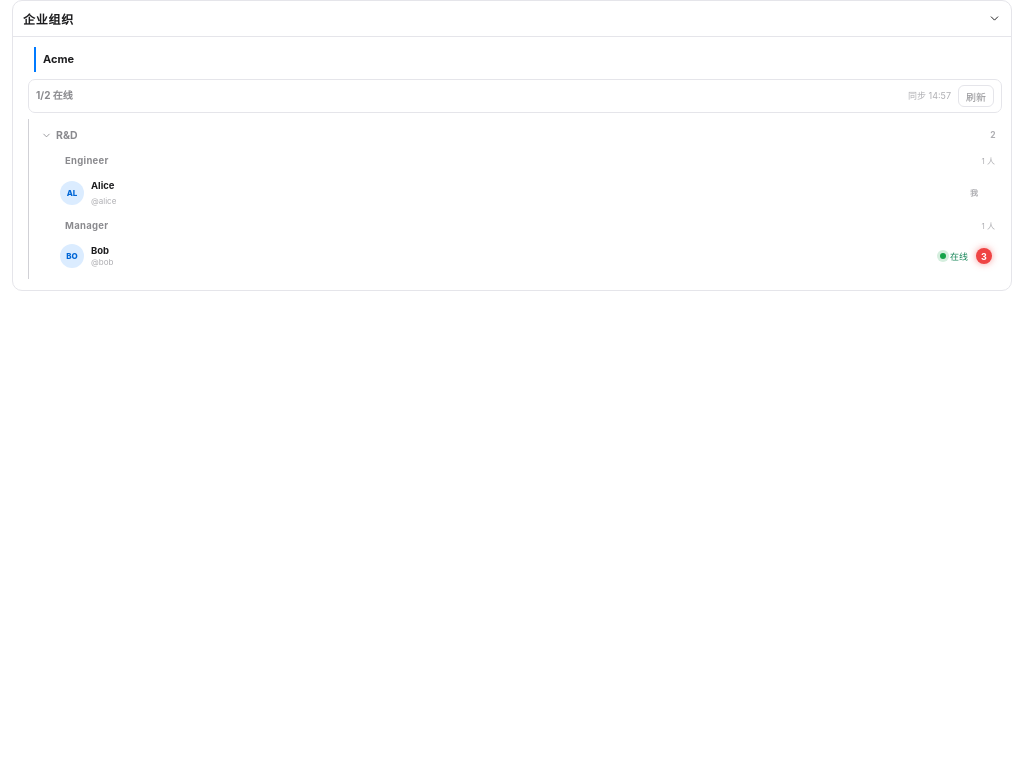
it: OrganizationTree › shows unread direct-message counts on enterprise members and clears them when opening chat
Expected: the text named "3 条未读消息" is shown, [976, 248, 992, 264]
Expected: the text "在线" is shown, [940, 250, 968, 263]
Click the button "BO Bob @bob 在线 3" at (72, 256), box [58, 240, 1002, 272]
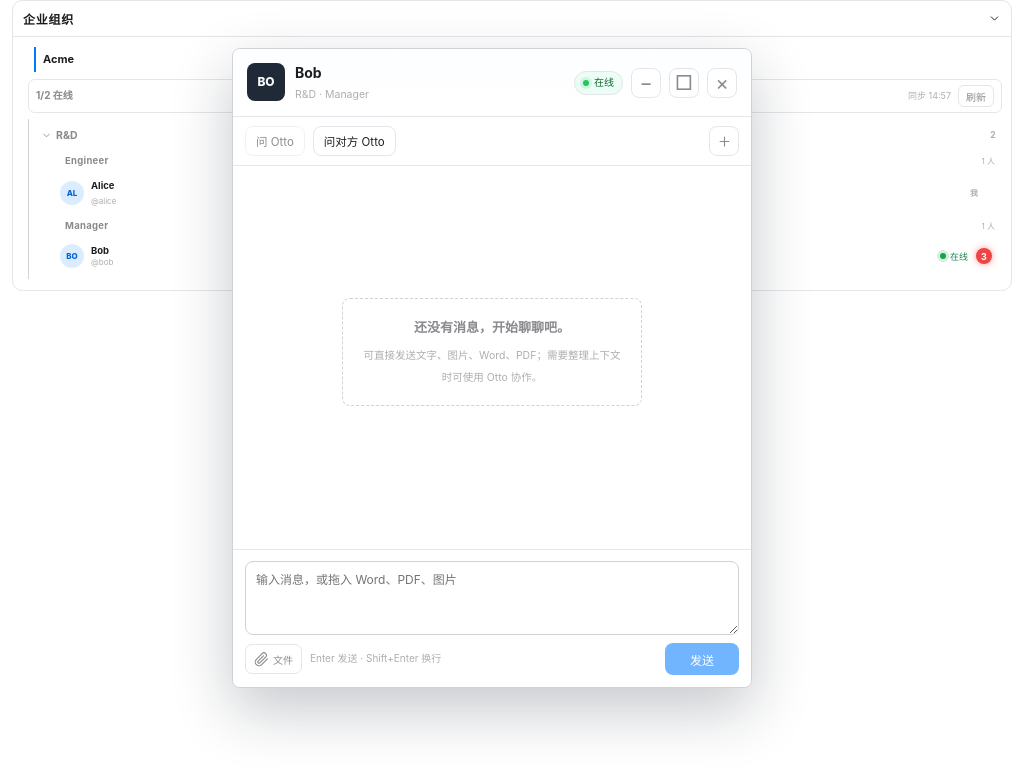
Result: the text "还没有消息，开始聊聊吧。" is shown at [414, 319, 570, 335]
